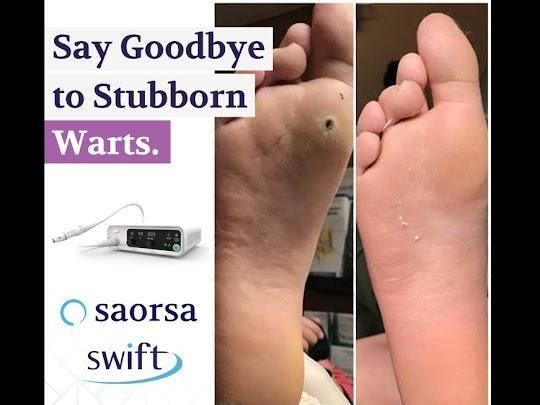Warts: (312, 77, 352, 145)
